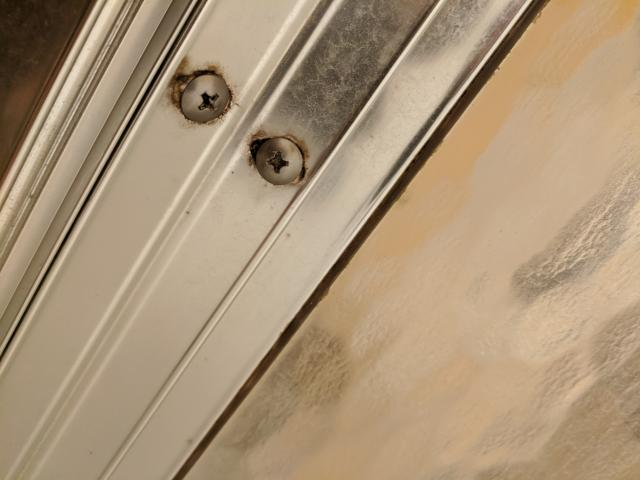CRS: (182, 70, 236, 132), (255, 135, 303, 186)
